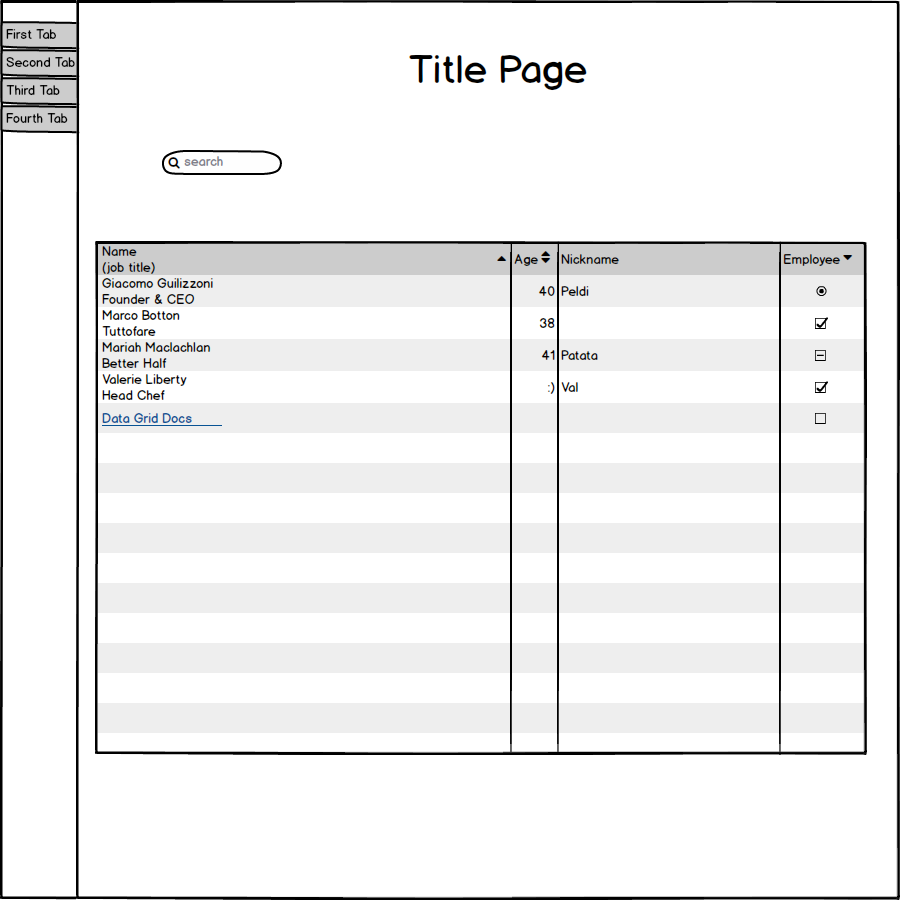h1: (400, 44, 607, 97)
search: (157, 141, 292, 184)
sidebar: (1, 17, 89, 138)
table: (89, 233, 875, 763)
